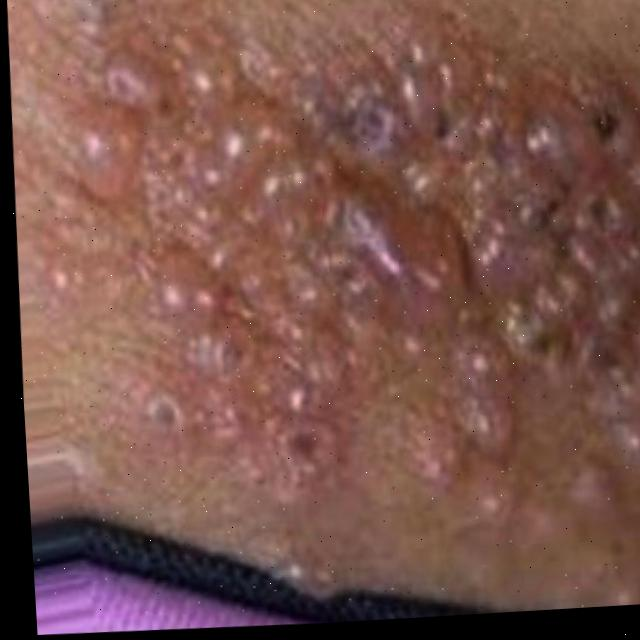Shingles: (75, 0, 640, 520)
